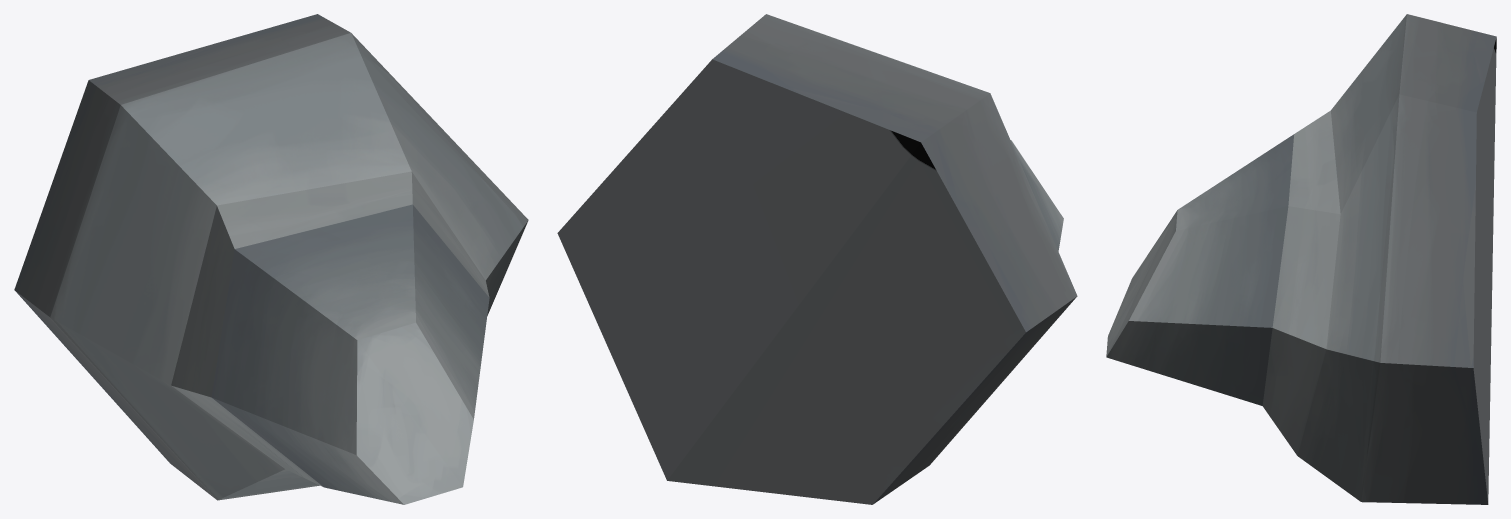
File: Rock1.fbx
The picture shows the model from 3 angles, left to right: view 1: azimuth 30°, elevation 25°; view 2: azimuth 150°, elevation 25°; view 3: azimuth 270°, elevation 25°; orthographic projection. The views are drawn at different scales.
Parts seen in each view (by area): view 1: Rock1; view 2: Rock1; view 3: Rock1.
Part boxes in pixels (x1,y1,x2,y2): Rock1: [14, 14, 528, 504]; Rock1: [557, 14, 1077, 504]; Rock1: [1106, 14, 1496, 504].
Bounding box in the file's own units: 820 × 727 × 660.
Materials: 1 (1 with a texture image).
